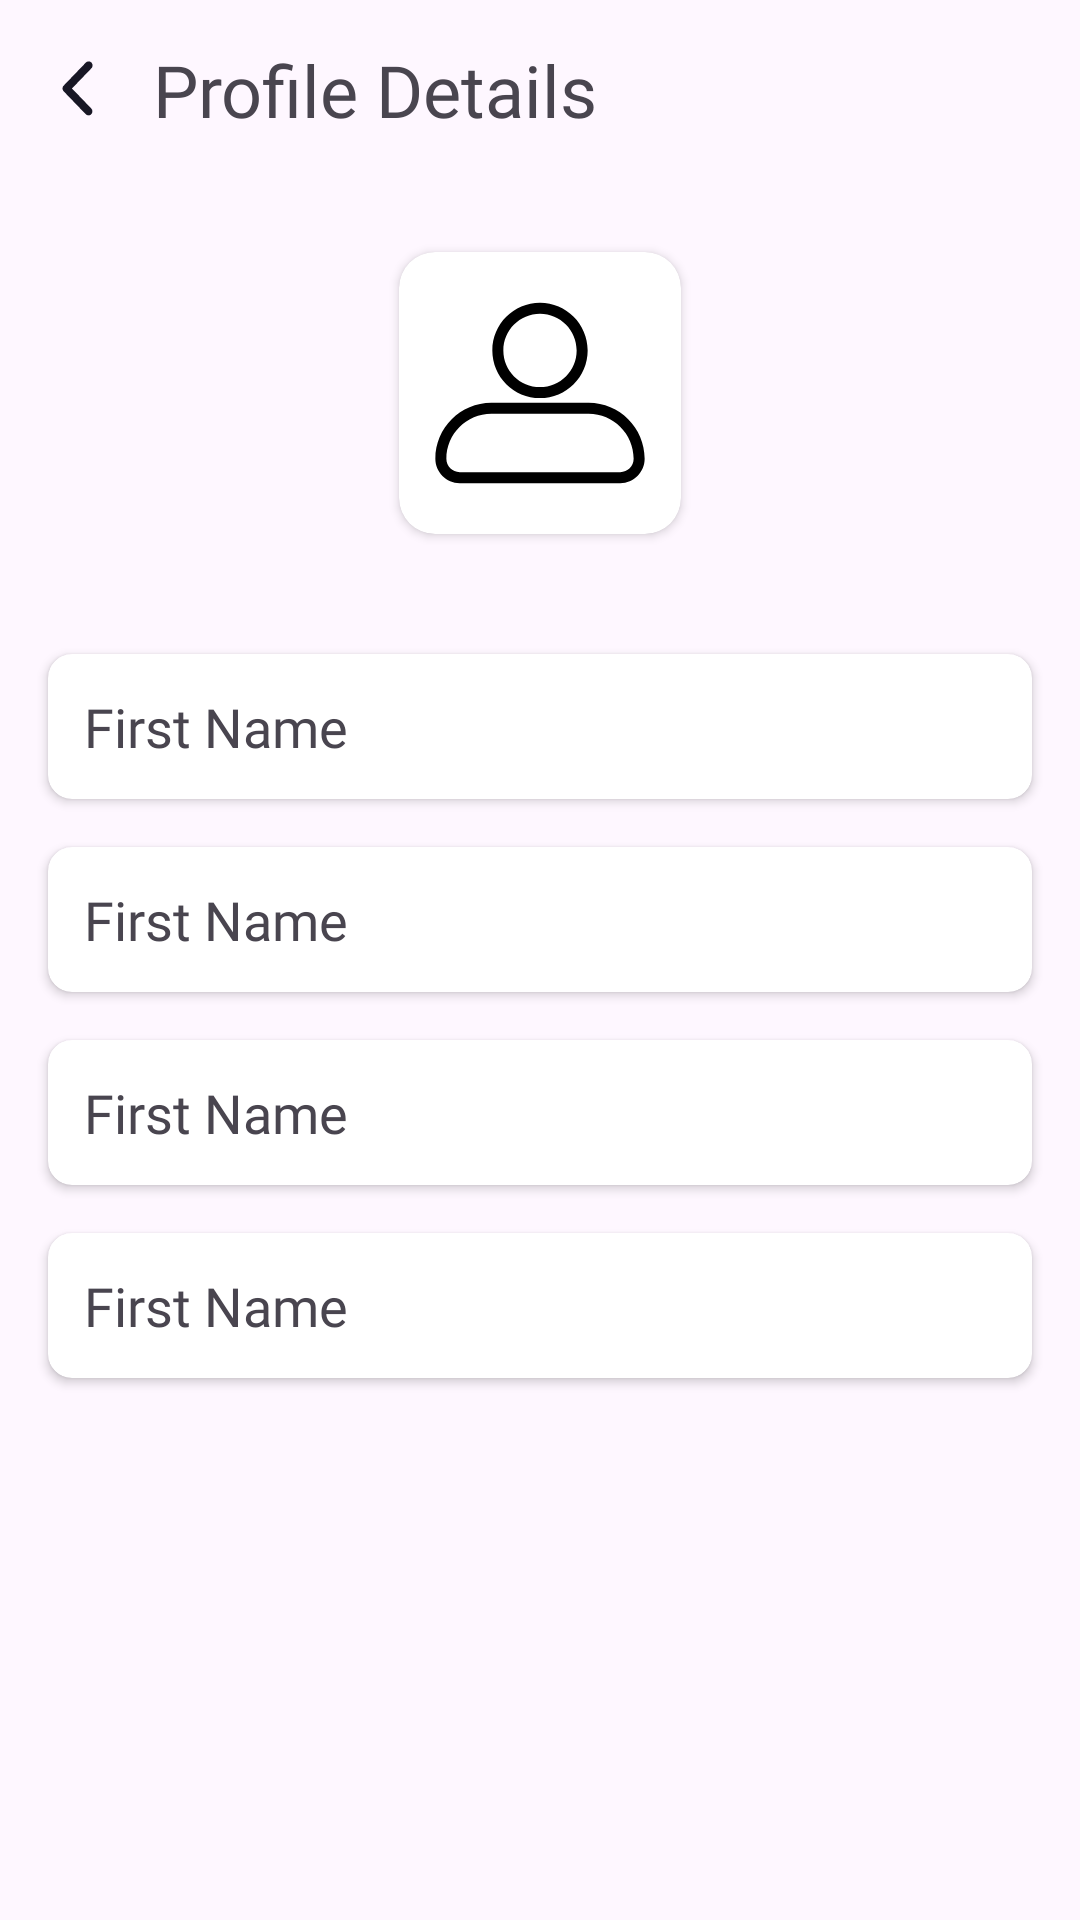

Icon bounding boxes for this 1080 × 1920 phone screenshot, format (x1, y1, x2, y2):
back: (62, 61, 93, 116)
